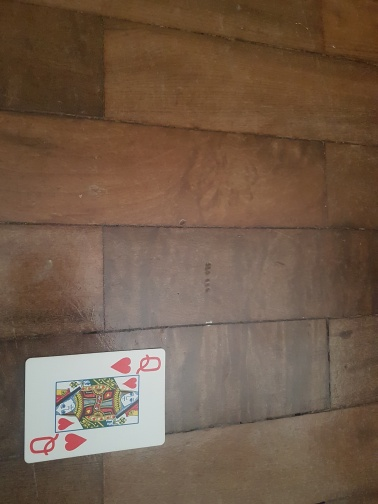queen: (23, 347, 165, 462)
